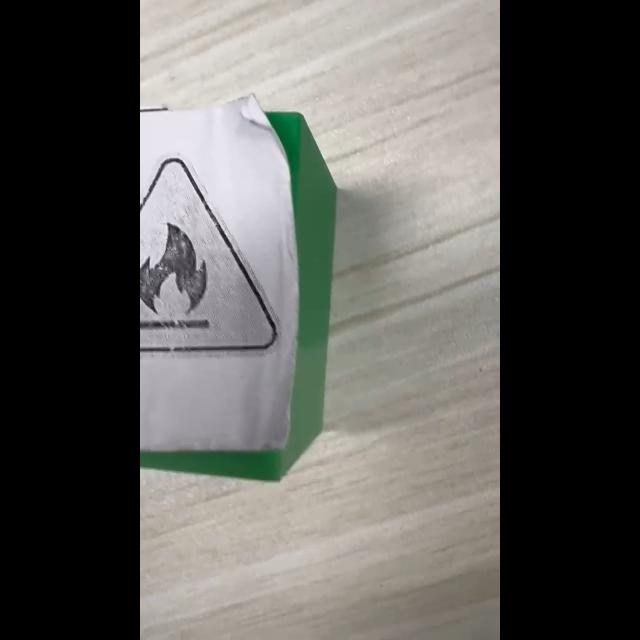Fire: (140, 158, 278, 353)
